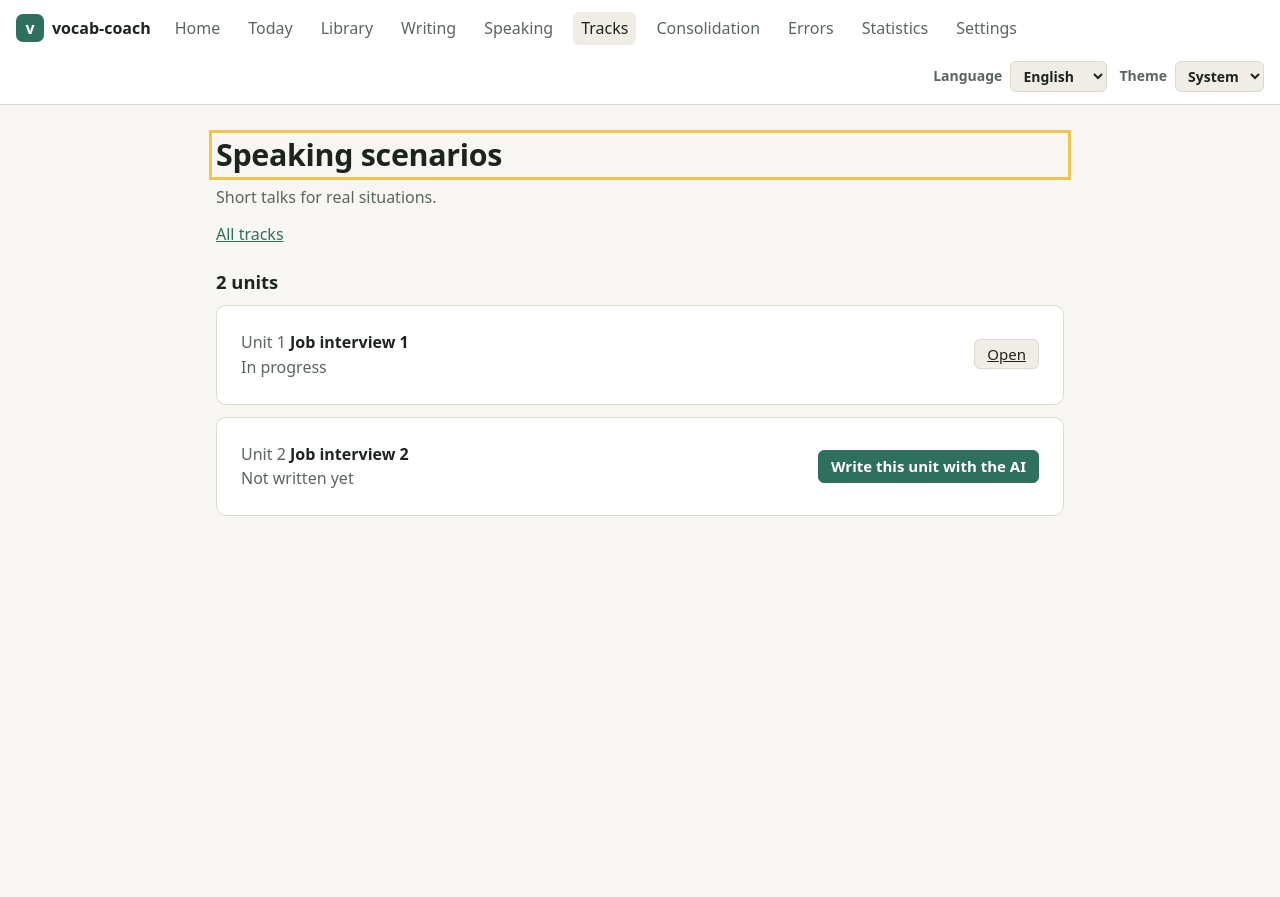
Test: Writing a scenario unit with the AI › sends one request on a double click, counts the seconds, then says nothing was written and tries again
Double-click the button "Write this unit with the AI" at (928, 466), box x1=818 y1=450 x2=1039 y2=483
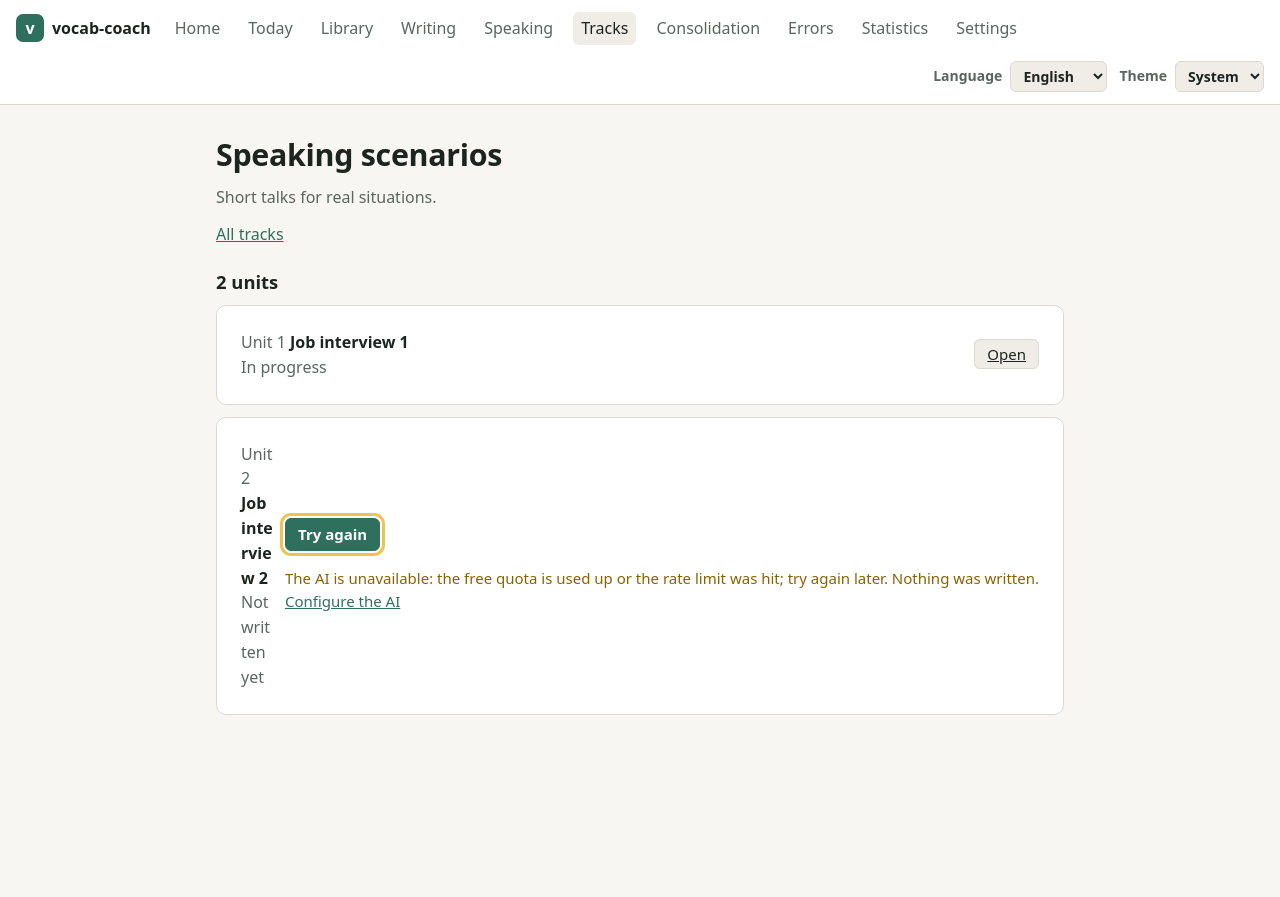
Result: the message shows "The AI is unavailable: the free quota is used up" at x1=285 y1=568 x2=888 y2=588
Result: the message shows "Nothing was written." at x1=892 y1=568 x2=1039 y2=588
Click the button "Try again" at (333, 534), box x1=285 y1=518 x2=380 y2=551
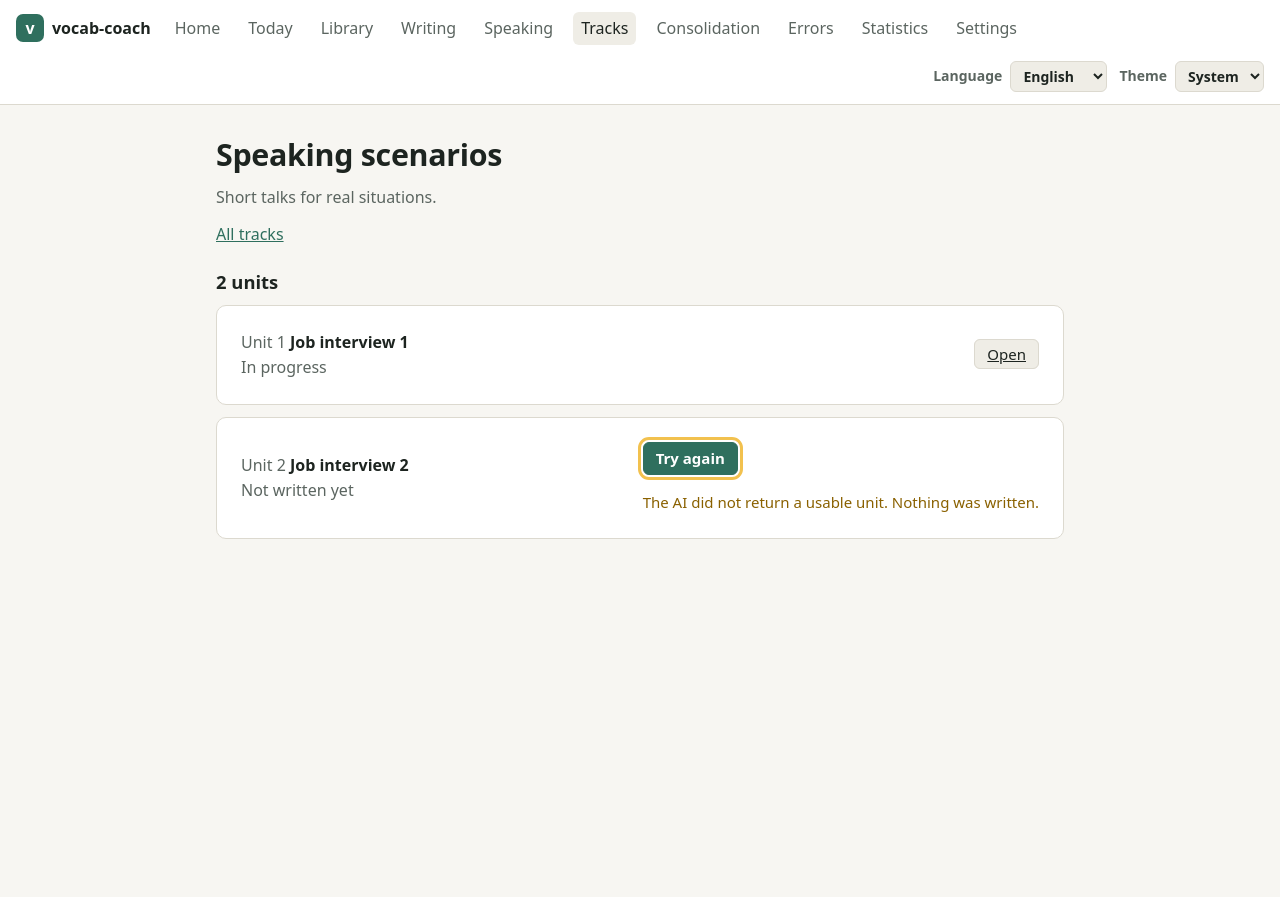
Result: the text "The AI did not return a usable unit. Nothing was written." is shown at x1=643 y1=491 x2=1039 y2=514
Result: the link "Configure the AI" is gone
Click the button "Try again" at (690, 458), box x1=643 y1=442 x2=738 y2=475
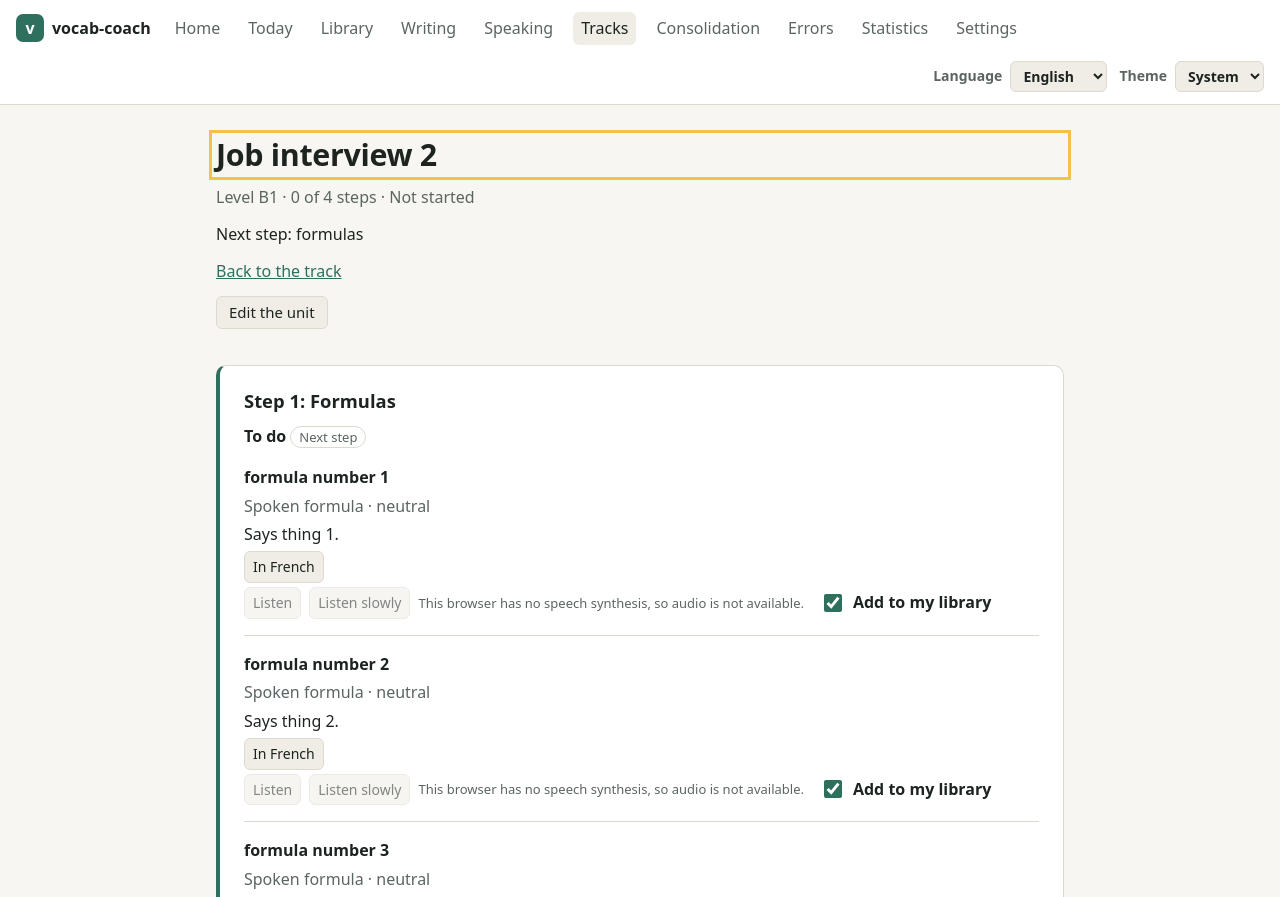
Result: the heading "Job interview 2" is shown at x1=216 y1=134 x2=437 y2=175
